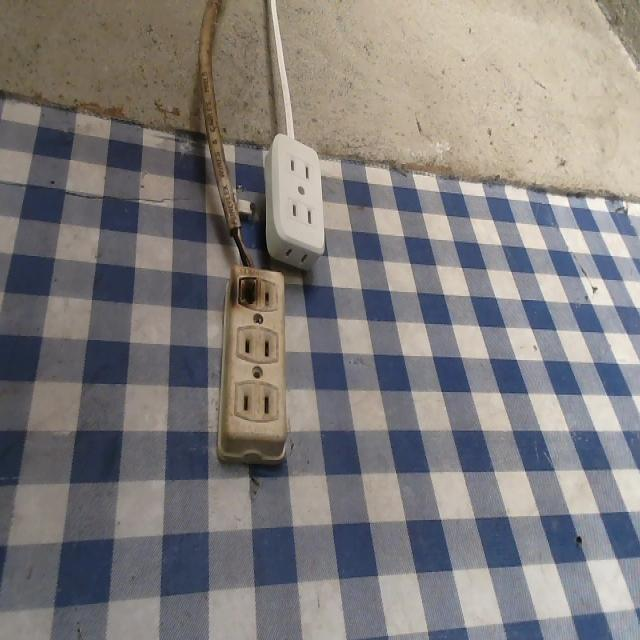-: (232, 272, 262, 317)
